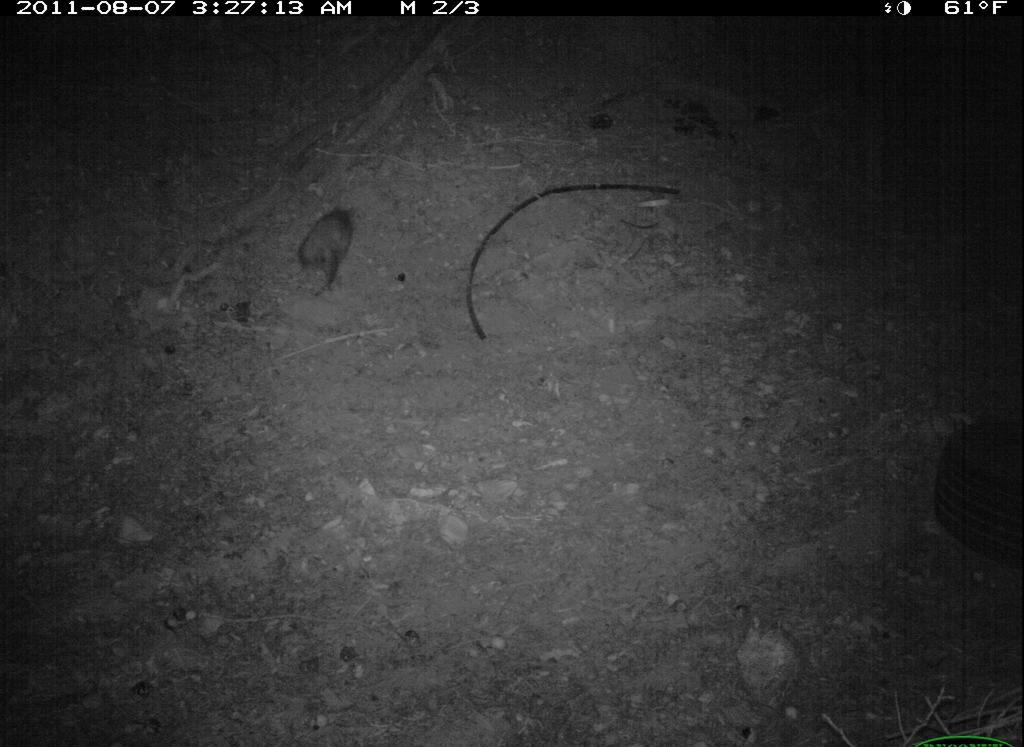opossum: (289, 201, 363, 299)
